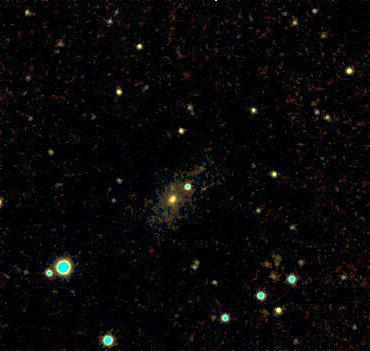star: (158, 174, 188, 204)
